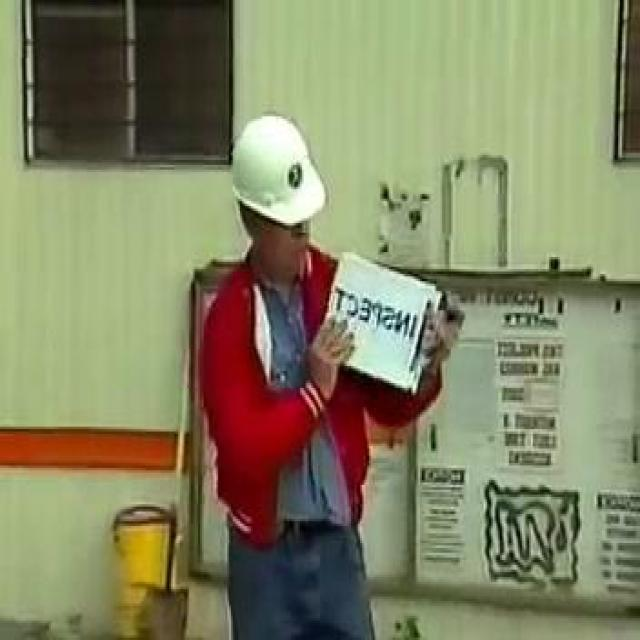Reflective-Jacket: (180, 257, 404, 555)
Safety-Helmet: (209, 100, 338, 242)
